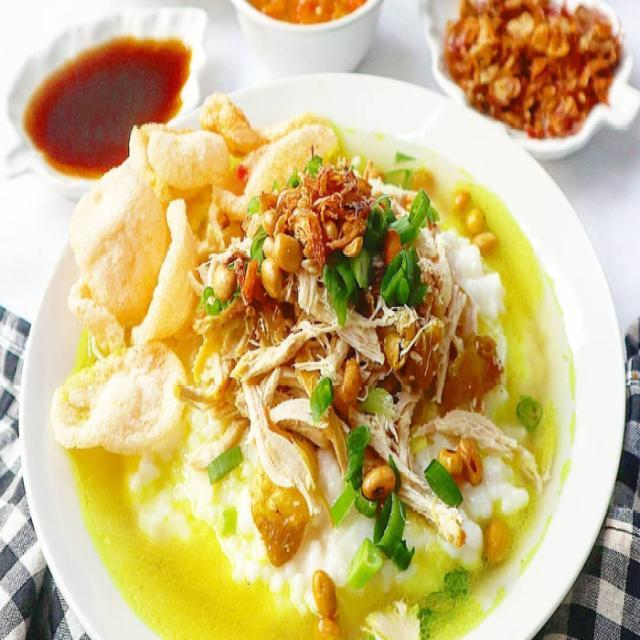bubur ayam: (60, 95, 581, 638)
mangkuk: (15, 69, 628, 629), (3, 6, 209, 202), (422, 1, 640, 161), (230, 1, 384, 80)
